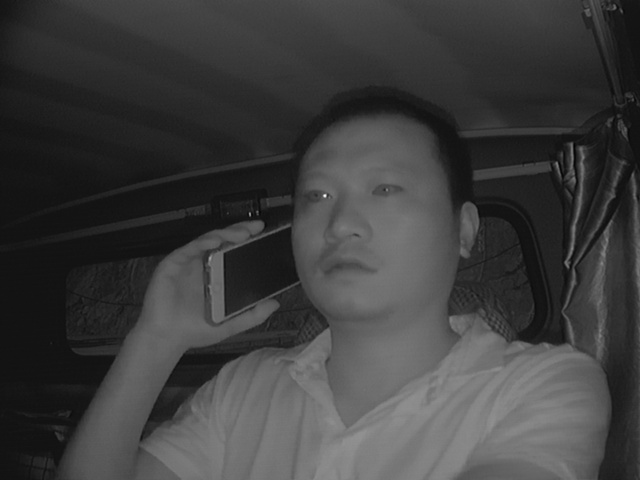hand: (139, 216, 270, 336)
